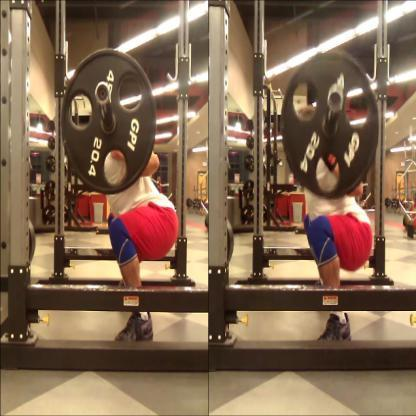barbell: (280, 51, 382, 201), (60, 48, 156, 195)
